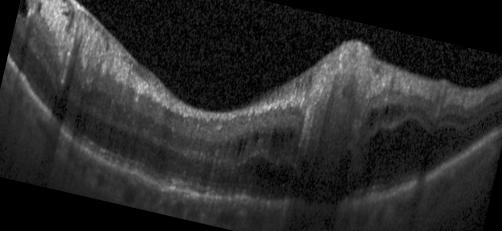intraretinal_cyst: (363, 120, 461, 183), (240, 155, 292, 185), (337, 149, 352, 191), (366, 108, 377, 128), (270, 129, 280, 150), (281, 129, 292, 147), (18, 0, 28, 16), (299, 159, 309, 173), (236, 137, 242, 155), (252, 133, 258, 146), (243, 136, 247, 150), (37, 1, 41, 13), (384, 105, 388, 114)
